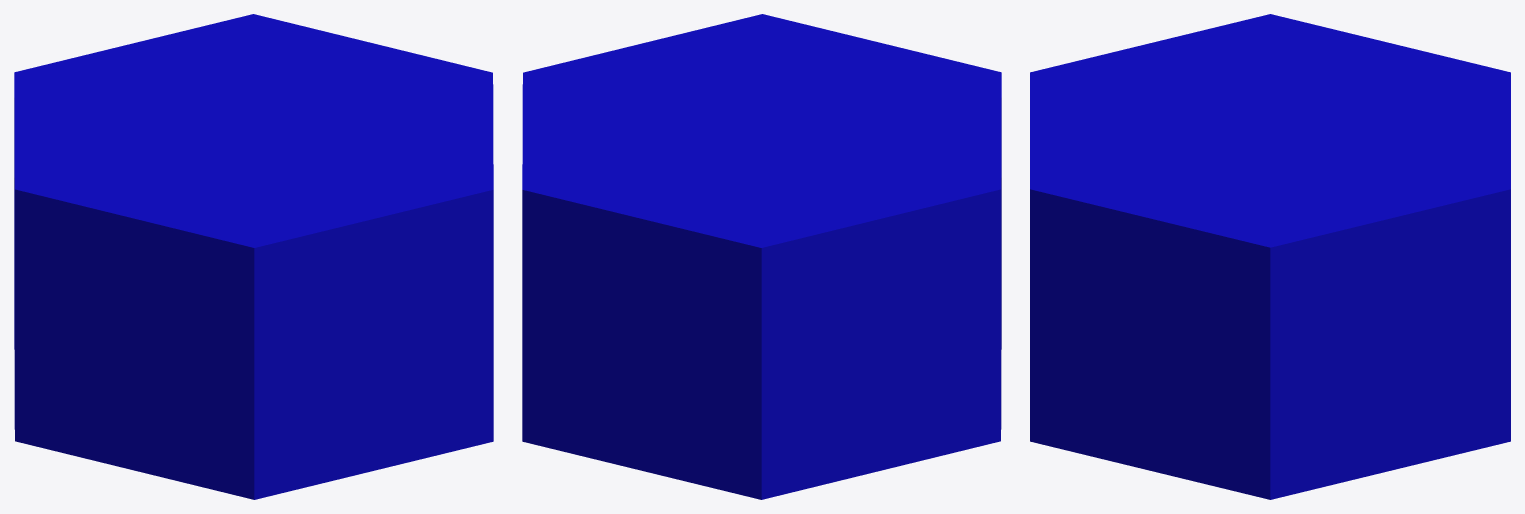
The model's file is HextileBlue.obj.
3 views of the same model, side by side, from view 1: azimuth 30°, elevation 25°; view 2: azimuth 150°, elevation 25°; view 3: azimuth 270°, elevation 25° (orthographic).
Parts seen in each view (by area): view 1: Circle_Circle.006; view 2: Circle_Circle.006; view 3: Circle_Circle.006.
Boxes of the visible parts, x1,y1,x2,y2 form: Circle_Circle.006: [14, 14, 493, 499]; Circle_Circle.006: [522, 14, 1001, 499]; Circle_Circle.006: [1030, 14, 1510, 499].
Size of the model in its own units: 2.3 by 1.16 by 2.
